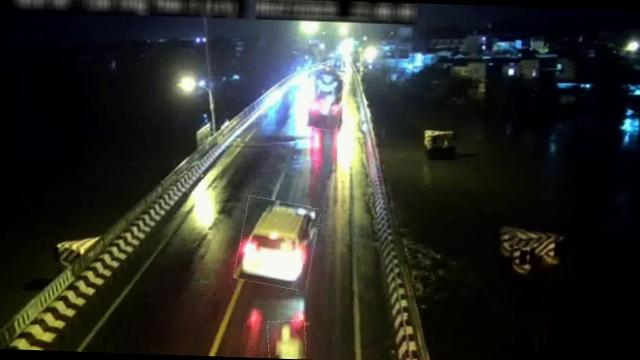Bike: (266, 320, 306, 358)
Car: (237, 198, 319, 289)
Truck: (304, 66, 346, 130)
